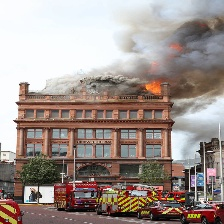fire: (142, 79, 166, 97)
smoke: (43, 1, 224, 100)
